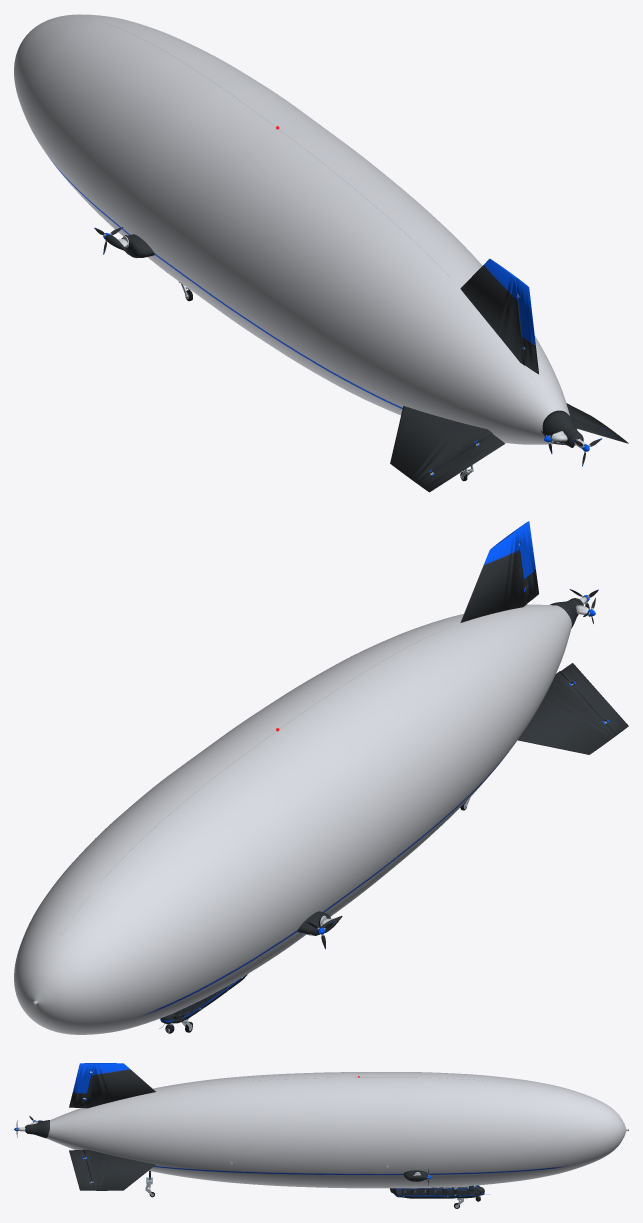
File: cromo-carbono-azul.glb
The picture shows the model from 3 angles, top to bottom: view 1: azimuth 30°, elevation 25°; view 2: azimuth 150°, elevation 25°; view 3: azimuth 270°, elevation 25°; orthographic projection. The views are drawn at different scales.
Parts seen in each view (by area): view 1: airship_mesh, fin_port_hinge_mesh, rudder_dorsal_hinge_mesh; view 2: airship_mesh, fin_port_hinge_mesh, rudder_dorsal_hinge_mesh; view 3: airship_mesh, rudder_dorsal_hinge_mesh, fin_starboard_hinge_mesh.
Part boxes in pixels (x1=…): airship_mesh: x1=14, y1=14, x2=615, y2=483; fin_port_hinge_mesh: x1=416, y1=433, x2=505, y2=492; rudder_dorsal_hinge_mesh: x1=515, y1=277, x2=538, y2=374; airship_mesh: x1=14, y1=530, x2=615, y2=1034; fin_port_hinge_mesh: x1=560, y1=663, x2=628, y2=735; rudder_dorsal_hinge_mesh: x1=515, y1=521, x2=538, y2=602; airship_mesh: x1=25, y1=1063, x2=628, y2=1208; rudder_dorsal_hinge_mesh: x1=69, y1=1063, x2=94, y2=1107; fin_starboard_hinge_mesh: x1=69, y1=1150, x2=94, y2=1190.
Size of the model in its own units: 1.31 by 1.35 by 5.17.
23 materials, 10 textured.
